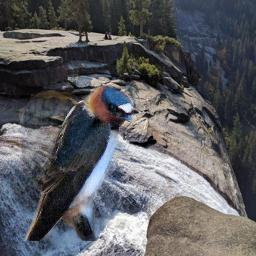Swallow: (19, 83, 134, 241)
